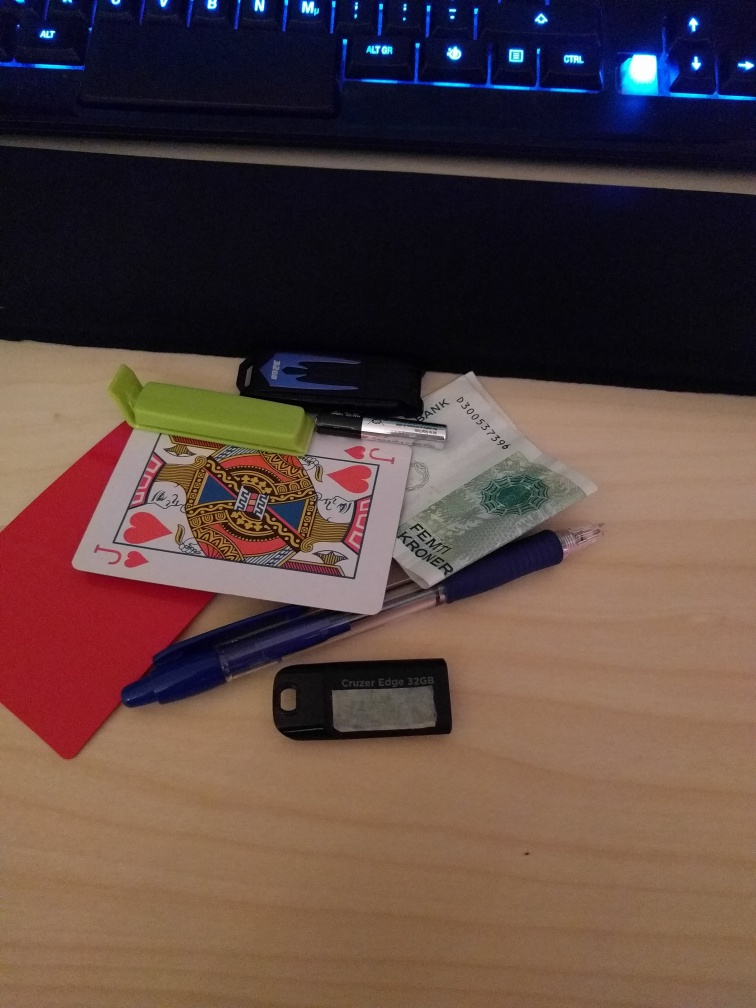jack: (72, 427, 412, 618)
